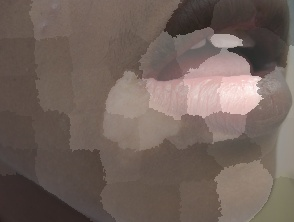vitiligo: (96, 57, 282, 169)
